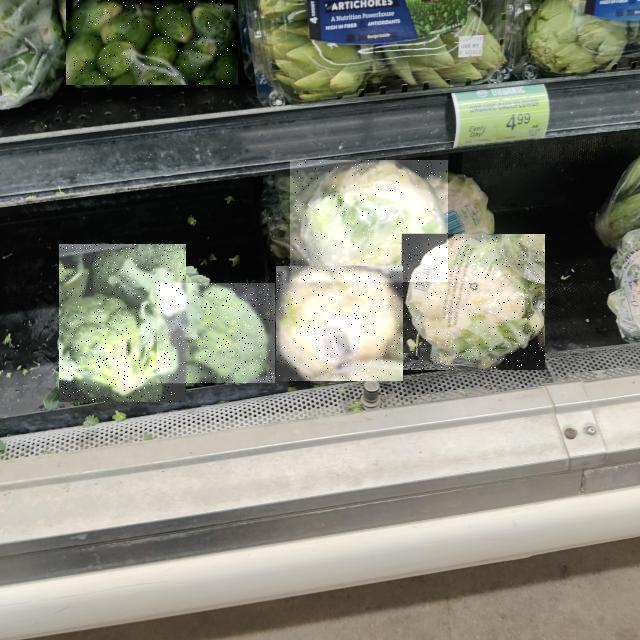broccoli: (19, 192, 294, 574), (0, 201, 152, 603)
